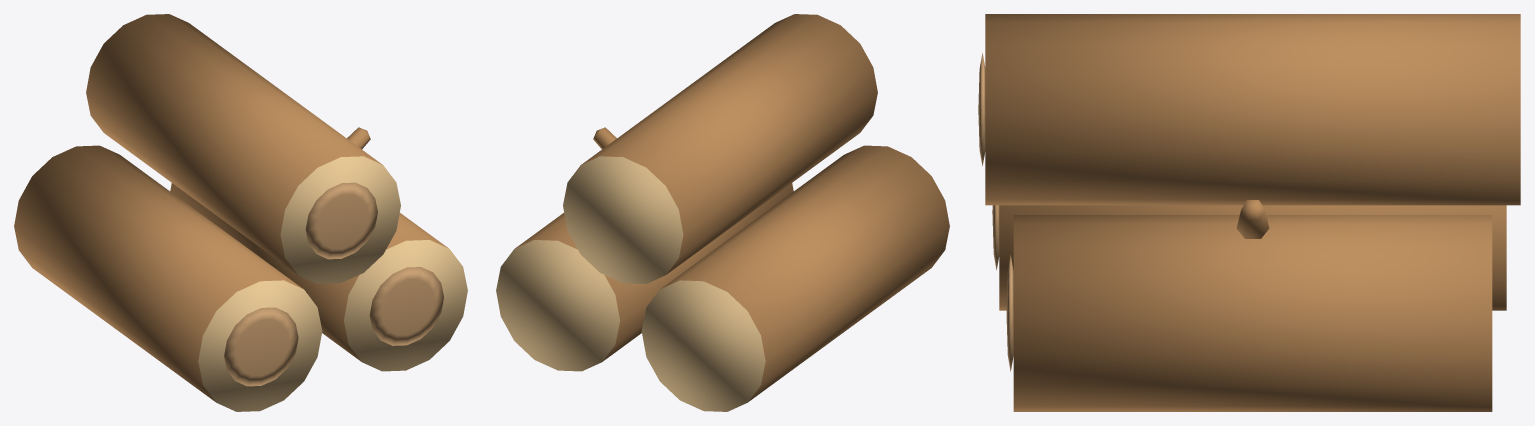
The model's file is mat-wood.glb.
3 views of the same model, side by side, from view 1: azimuth 30°, elevation 25°; view 2: azimuth 150°, elevation 25°; view 3: azimuth 270°, elevation 25° (orthographic). The views are drawn at different scales.
Parts seen in each view (by area): view 1: mat; view 2: mat; view 3: mat.
Part boxes in pixels (x1=…): mat: x1=14, y1=14, x2=467, y2=411; mat: x1=496, y1=14, x2=949, y2=411; mat: x1=978, y1=14, x2=1520, y2=411.
Size of the model in its own units: 0.31 by 0.258 by 0.385.
